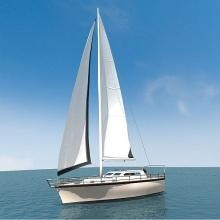fanchuan: (50, 7, 170, 206)
